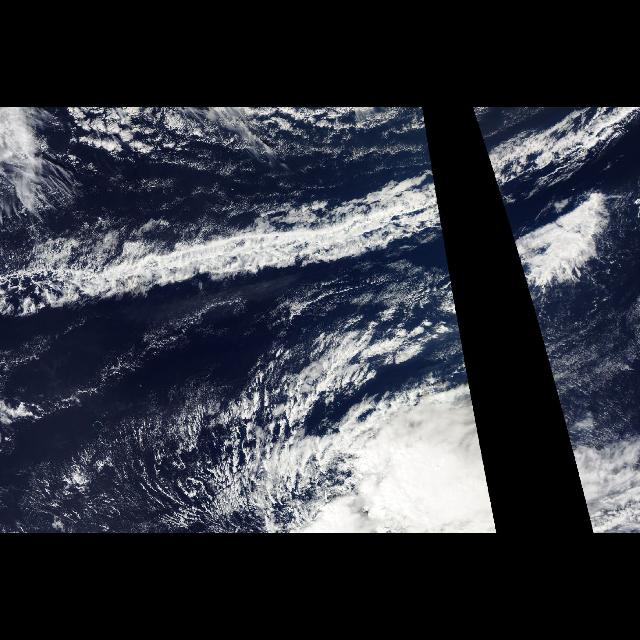Fish: (1, 108, 461, 326), (472, 108, 638, 326)
Gravel: (236, 344, 360, 512)
Sugar: (30, 382, 336, 530), (536, 271, 636, 439)
